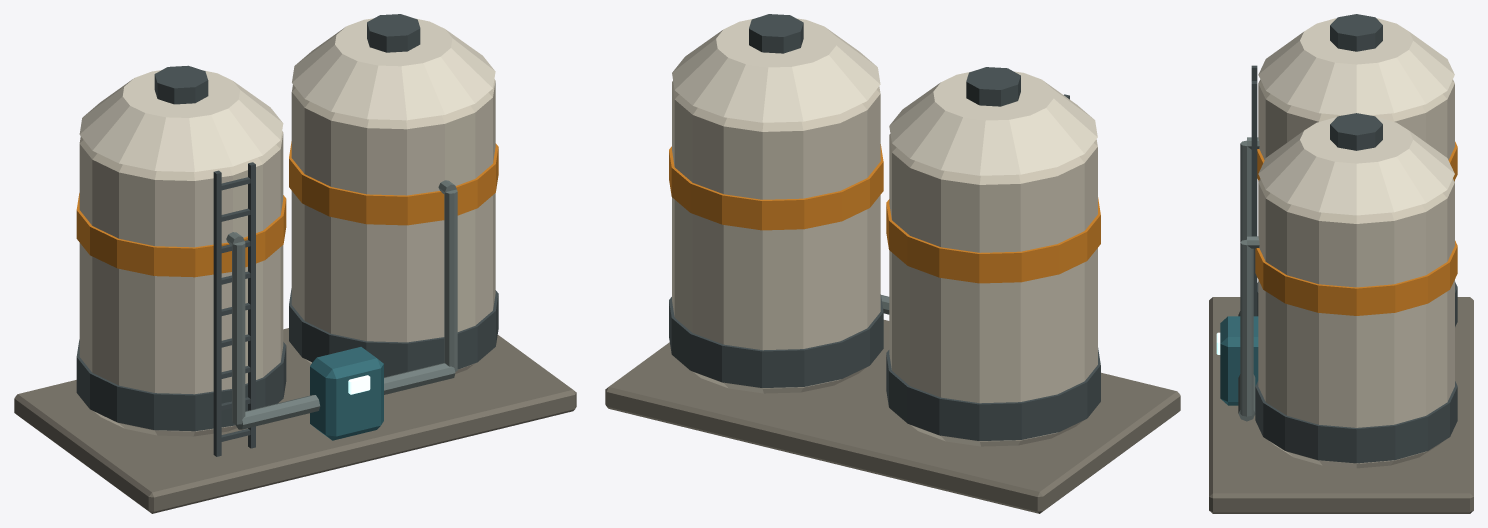
Rendered from fh_tank_pair.glb.
3 views of the same model, side by side, from view 1: azimuth 30°, elevation 25°; view 2: azimuth 150°, elevation 25°; view 3: azimuth 270°, elevation 25° (orthographic). The views are drawn at different scales.
Parts seen in each view (by area): view 1: fh_tank_pair; view 2: fh_tank_pair; view 3: fh_tank_pair.
Part boxes in pixels (x1,y1,x2,y2): fh_tank_pair: (14,14,576,513); fh_tank_pair: (605,14,1180,513); fh_tank_pair: (1209,14,1473,513).
Bounding box in the file's own units: 2.5 × 1.99 × 1.4.
